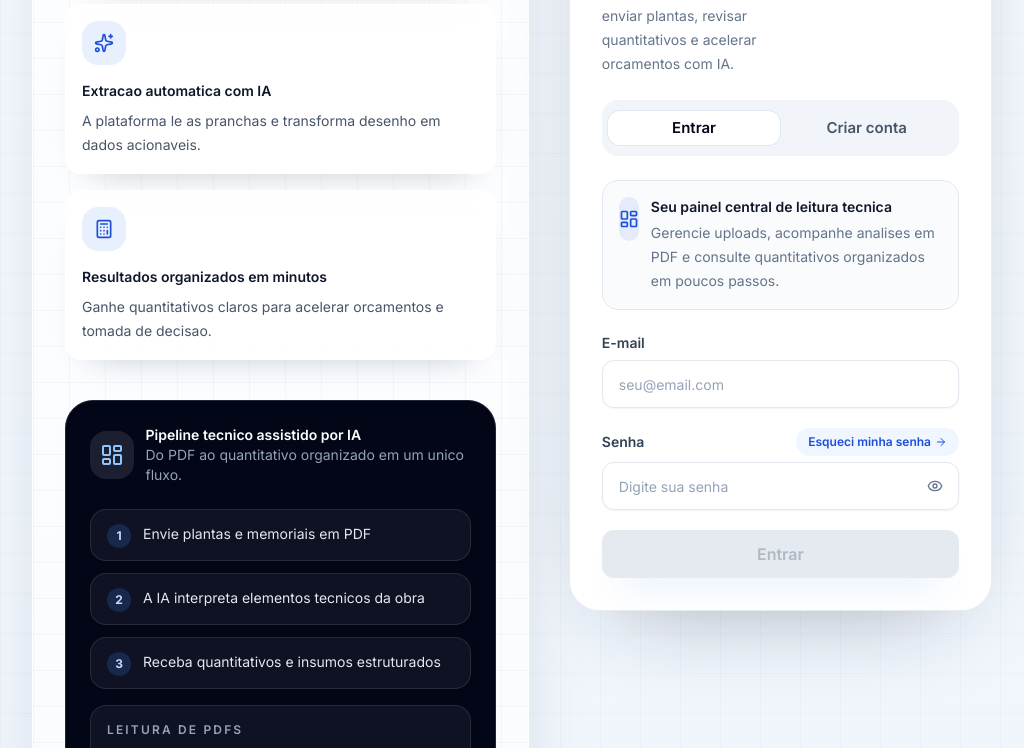
Test: Auth conversion flow › keeps the login CTA disabled until the form becomes valid and exposes the password toggle
The image size is (1024, 748).
(page scrolled)
Expected: the button "Entrar" is disabled, [602,530,959,578]
Expected: the button named "Mostrar senha" is shown, [919,470,951,502]
Type "email-invalido" into the field labelled "E-mail". click: {"x": 780, "y": 384}
box: [602,360,959,408]
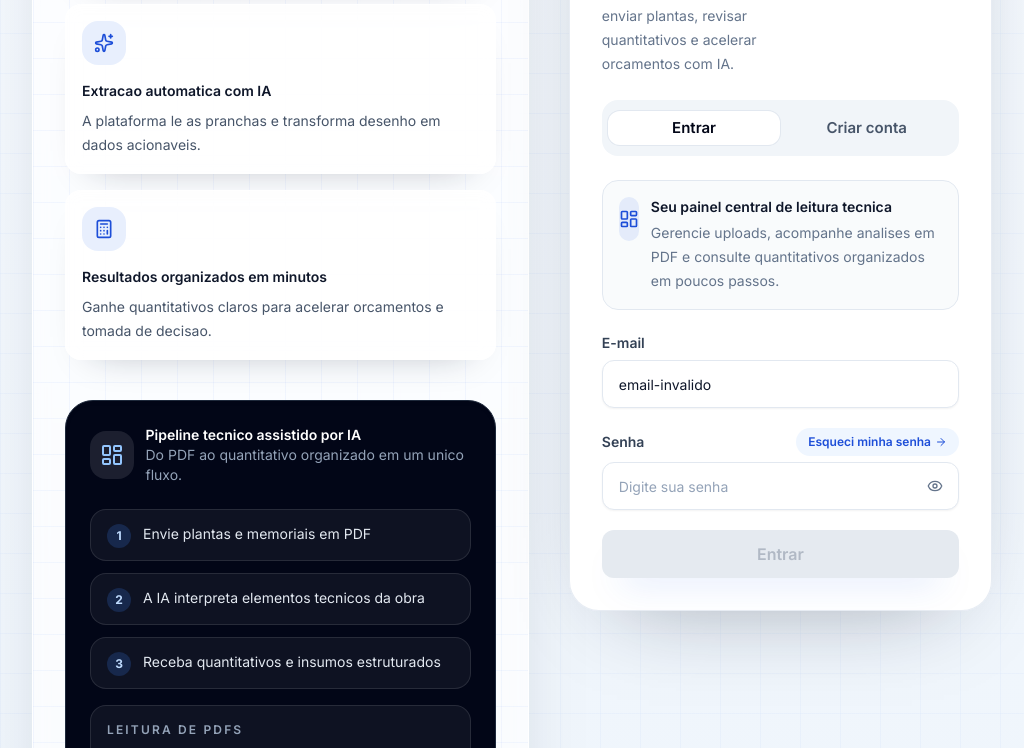
Type "12345678" into the password field with placeholder "Digite sua senha". click: {"x": 780, "y": 486}
box: [602,462,959,510]
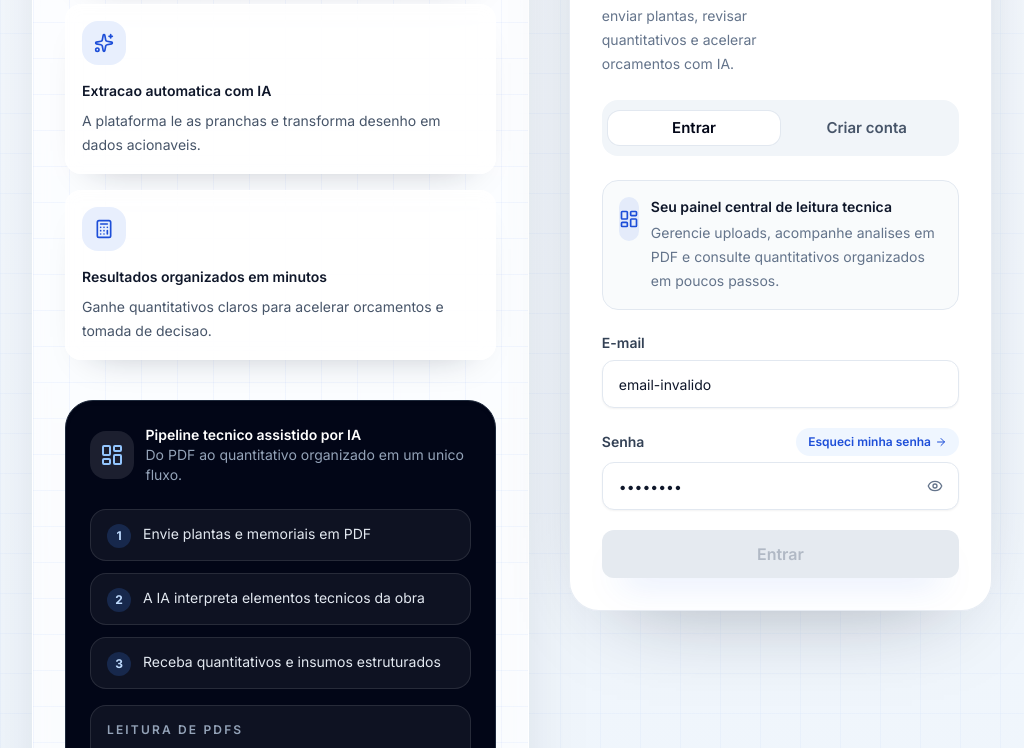
Expected: the button "Entrar" is disabled, [602,530,959,578]
Replace the text in the field labelled "E-mail" with "contato@empresa.com". click: {"x": 780, "y": 384}
box: [602,360,959,408]
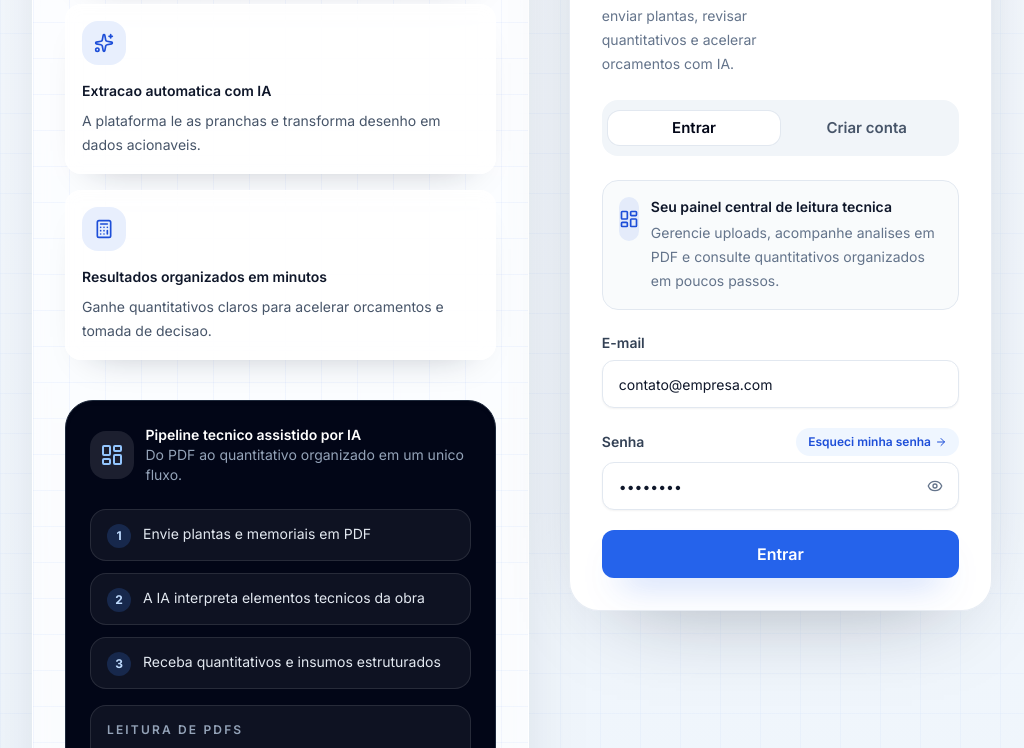
Expected: the button "Entrar" is enabled, [602,530,959,578]
